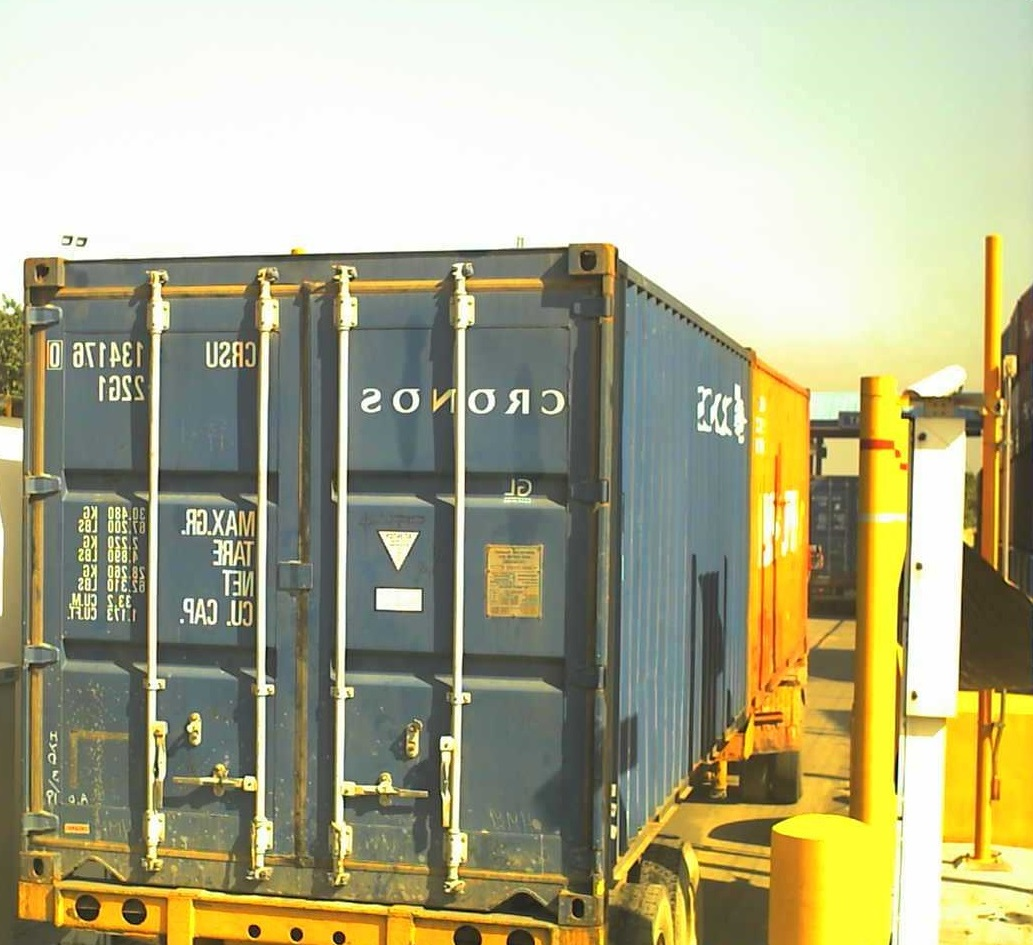container_door: (18, 253, 607, 923)
